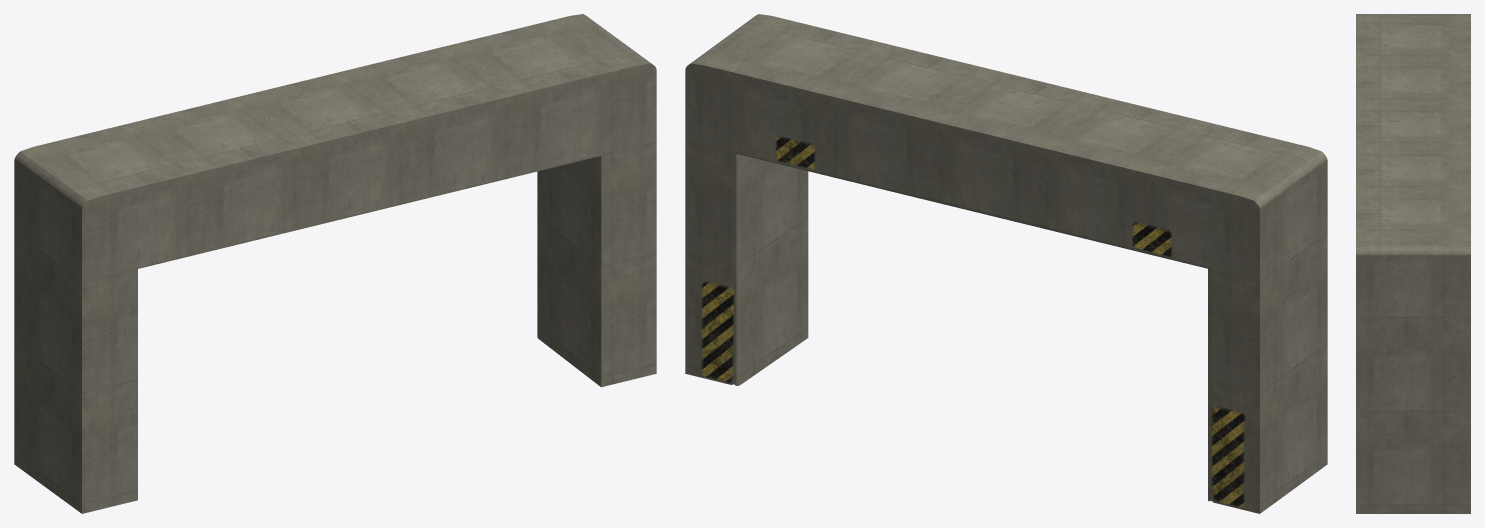
File: Tun_BoxxyEntrance.fbx
The picture shows the model from 3 angles, left to right: view 1: azimuth 30°, elevation 25°; view 2: azimuth 150°, elevation 25°; view 3: azimuth 270°, elevation 25°; orthographic projection. The views are drawn at different scales.
Visible parts, largest first — view 1: entrance_exit; view 2: entrance_exit; view 3: entrance_exit.
Part boxes in pixels (x1,y1,x2,y2): entrance_exit: (14, 14, 656, 513); entrance_exit: (685, 14, 1327, 513); entrance_exit: (1356, 14, 1470, 513).
Size of the model in its own units: 1115 by 581 by 227.
